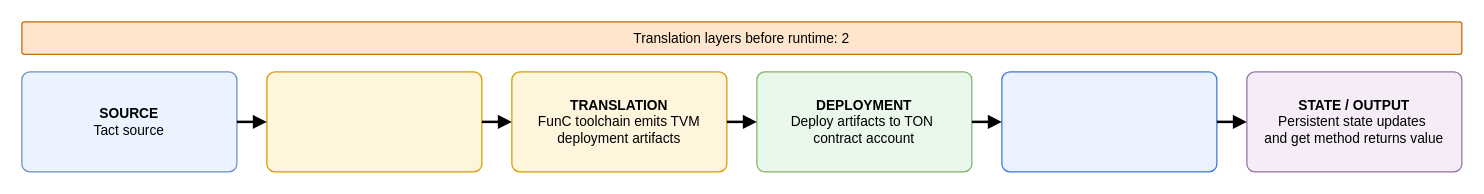
Some shapes in this 1484 by 194 pixel diagram are drawn without their labels. The centre of each missing label's shape, as x and y in pixels:
RUNTIME Internal Add message executes receive(msg) in TVM: point 1109,121
TRANSLATION Tact compiler lowers contract to FunC: point 374,121
